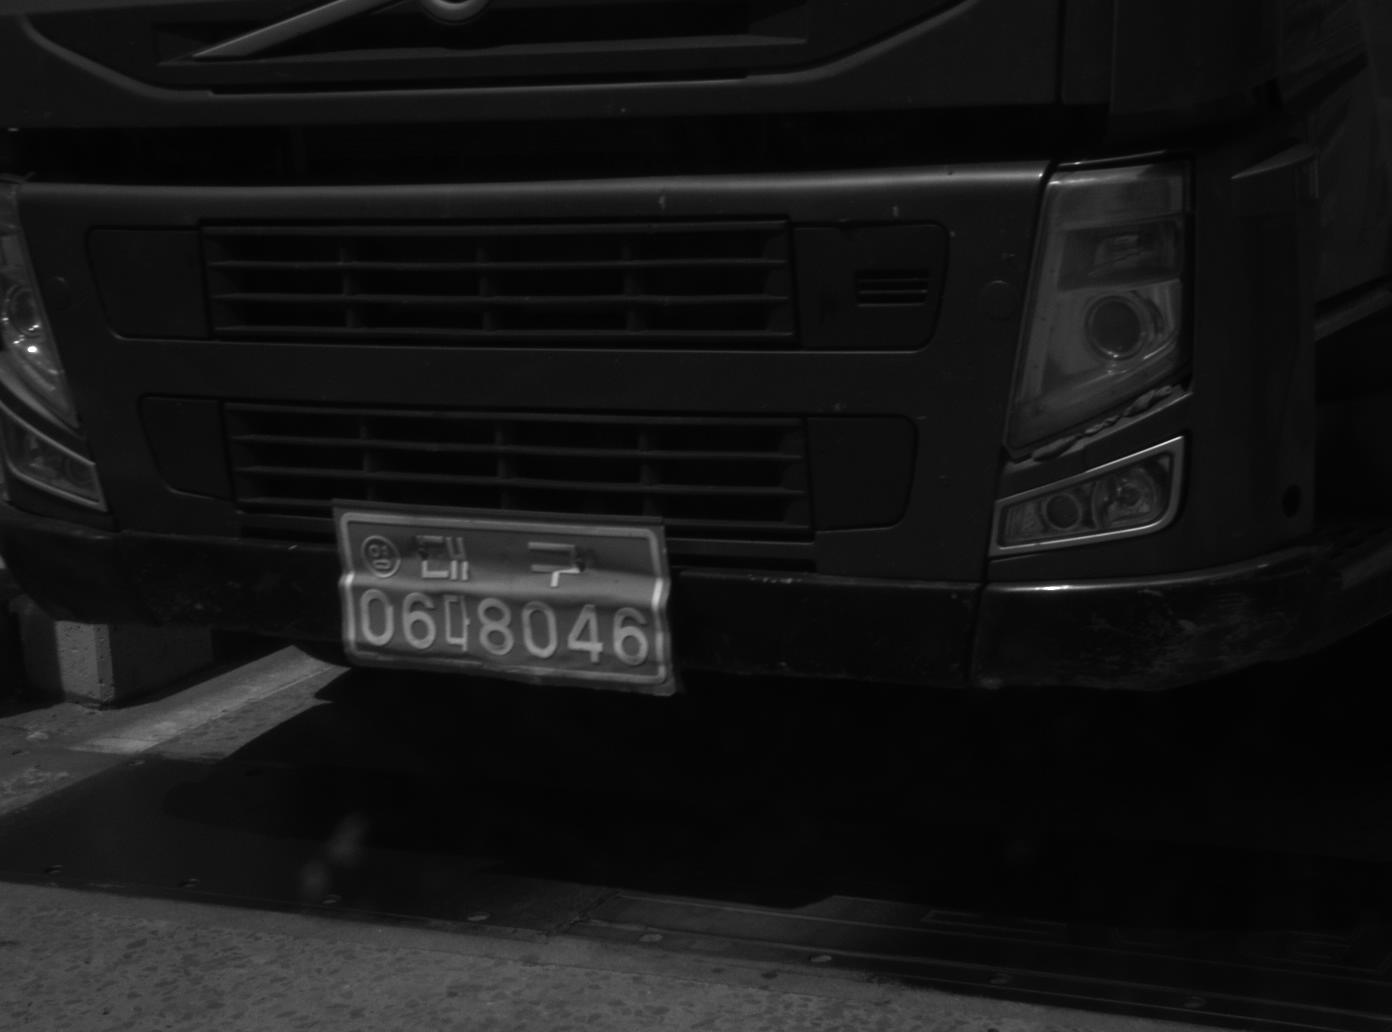car: (1, 1, 1387, 758)
plate: (332, 501, 673, 693)
